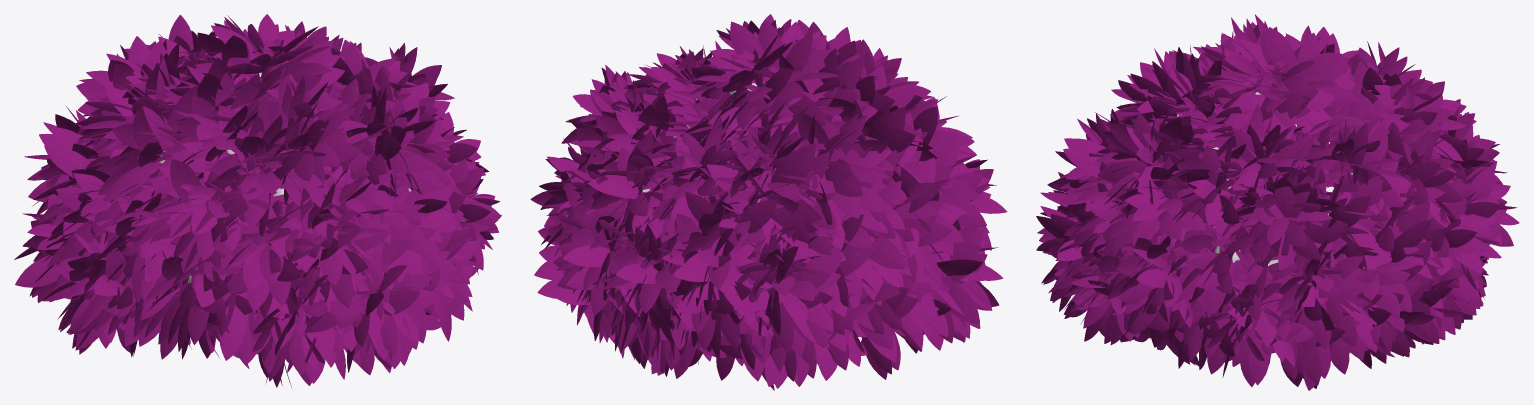
File: พุ่มไม้ชมพู.fbx
The picture shows the model from 3 angles, left to right: view 1: azimuth 30°, elevation 25°; view 2: azimuth 150°, elevation 25°; view 3: azimuth 270°, elevation 25°; orthographic projection. The views are drawn at different scales.
Visible parts, largest first — view 1: ทรงกลม|Plane.001|Dupli|1525, ทรงกลม|Plane.001|Dupli|1554, ทรงกลม|Plane.001|Dupli|1372, ทรงกลม|Plane.001|Dupli|1454, ทรงกลม|Plane.001|Dupli|552, ทรงกลม|Plane.001|Dupli|565, ทรงกลม|Plane.001|Dupli|634, ทรงกลม|Plane.001|Dupli|620, ทรงกลม|Plane.001|Dupli|1367, ทรงกลม|Plane.001|Dupli|1414, ทรงกลม|Plane.001|Dupli|1380, ทรงกลม|Plane.001|Dupli|1388 (+84 smaller); view 2: ทรงกลม|Plane.001|Dupli|1357, ทรงกลม|Plane.001|Dupli|1439, ทรงกลม|Plane.001|Dupli|1410, ทรงกลม|Plane.001|Dupli|1727, ทรงกลม|Plane.001|Dupli|1246, ทรงกลม|Plane.001|Dupli|1244, ทรงกลม|Plane.001|Dupli|1725, ทรงกลม|Plane.001|Dupli|1723, ทรงกลม|Plane.001|Dupli|1296, ทรงกลม|Plane.001|Dupli|1321, ทรงกลม|Plane.001|Dupli|1434, ทรงกลม|Plane.001|Dupli|1436 (+86 smaller); view 3: ทรงกลม|Plane.001|Dupli|1588, ทรงกลม|Plane.001|Dupli|1212, ทรงกลม|Plane.001|Dupli|319, ทรงกลม|Plane.001|Dupli|1587, ทรงกลม|Plane.001|Dupli|1576, ทรงกลม|Plane.001|Dupli|1672, ทรงกลม|Plane.001|Dupli|1715, ทรงกลม|Plane.001|Dupli|169, ทรงกลม|Plane.001|Dupli|1713, ทรงกลม|Plane.001|Dupli|1230, ทรงกลม|Plane.001|Dupli|1200, ทรงกลม|Plane.001|Dupli|1586 (+79 smaller).
Part boxes in pixels (x1,y1,x2,y2): ทรงกลม|Plane.001|Dupli|1525: [98, 109, 184, 194]; ทรงกลม|Plane.001|Dupli|1554: [44, 145, 90, 234]; ทรงกลม|Plane.001|Dupli|1372: [330, 227, 390, 308]; ทรงกลม|Plane.001|Dupli|1454: [66, 243, 130, 352]; ทรงกลม|Plane.001|Dupli|552: [149, 159, 201, 243]; ทรงกลม|Plane.001|Dupli|565: [112, 84, 198, 189]; ทรงกลม|Plane.001|Dupli|634: [175, 73, 260, 142]; ทรงกลม|Plane.001|Dupli|620: [15, 194, 59, 287]; ทรงกลม|Plane.001|Dupli|1367: [380, 274, 432, 354]; ทรงกลม|Plane.001|Dupli|1414: [103, 157, 173, 202]; ทรงกลม|Plane.001|Dupli|1380: [288, 300, 362, 375]; ทรงกลม|Plane.001|Dupli|1388: [239, 174, 328, 227]; ทรงกลม|Plane.001|Dupli|1357: [685, 192, 776, 259]; ทรงกลม|Plane.001|Dupli|1439: [860, 180, 905, 269]; ทรงกลม|Plane.001|Dupli|1410: [933, 135, 986, 227]; ทรงกลม|Plane.001|Dupli|1727: [766, 33, 825, 125]; ทรงกลม|Plane.001|Dupli|1246: [771, 147, 809, 242]; ทรงกลม|Plane.001|Dupli|1244: [771, 269, 830, 353]; ทรงกลม|Plane.001|Dupli|1725: [758, 20, 838, 74]; ทรงกลม|Plane.001|Dupli|1723: [715, 21, 820, 98]; ทรงกลม|Plane.001|Dupli|1296: [563, 245, 637, 313]; ทรงกลม|Plane.001|Dupli|1321: [706, 155, 776, 254]; ทรงกลม|Plane.001|Dupli|1434: [832, 115, 867, 196]; ทรงกลม|Plane.001|Dupli|1436: [830, 149, 891, 218]; ทรงกลม|Plane.001|Dupli|1588: [1172, 219, 1276, 317]; ทรงกลม|Plane.001|Dupli|1212: [1230, 177, 1347, 262]; ทรงกลม|Plane.001|Dupli|319: [1097, 112, 1202, 182]; ทรงกลม|Plane.001|Dupli|1587: [1206, 301, 1314, 385]; ทรงกลม|Plane.001|Dupli|1576: [1319, 188, 1370, 270]; ทรงกลม|Plane.001|Dupli|1672: [1233, 128, 1314, 163]; ทรงกลม|Plane.001|Dupli|1715: [1246, 32, 1360, 107]; ทรงกลม|Plane.001|Dupli|169: [1245, 177, 1320, 268]; ทรงกลม|Plane.001|Dupli|1713: [1261, 30, 1342, 106]; ทรงกลม|Plane.001|Dupli|1230: [1469, 165, 1513, 246]; ทรงกลม|Plane.001|Dupli|1200: [1240, 211, 1332, 244]; ทรงกลม|Plane.001|Dupli|1586: [1195, 283, 1302, 386].
Size of the model in its own units: 273 by 177 by 272.
